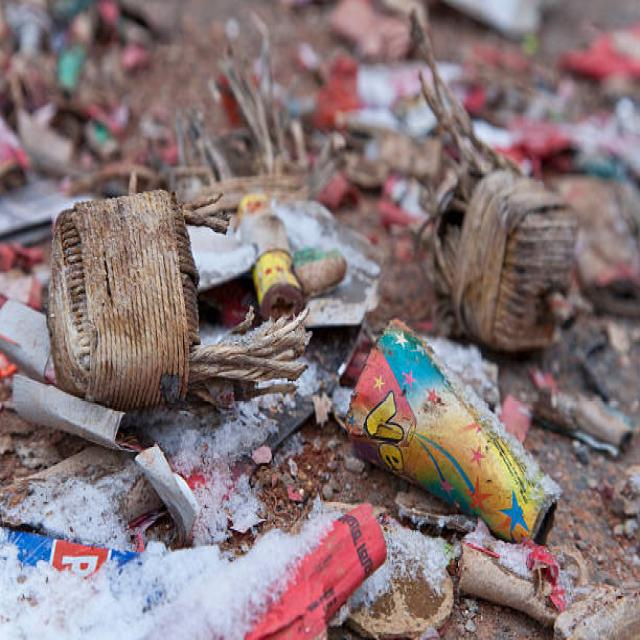trash: (41, 83, 604, 618)
